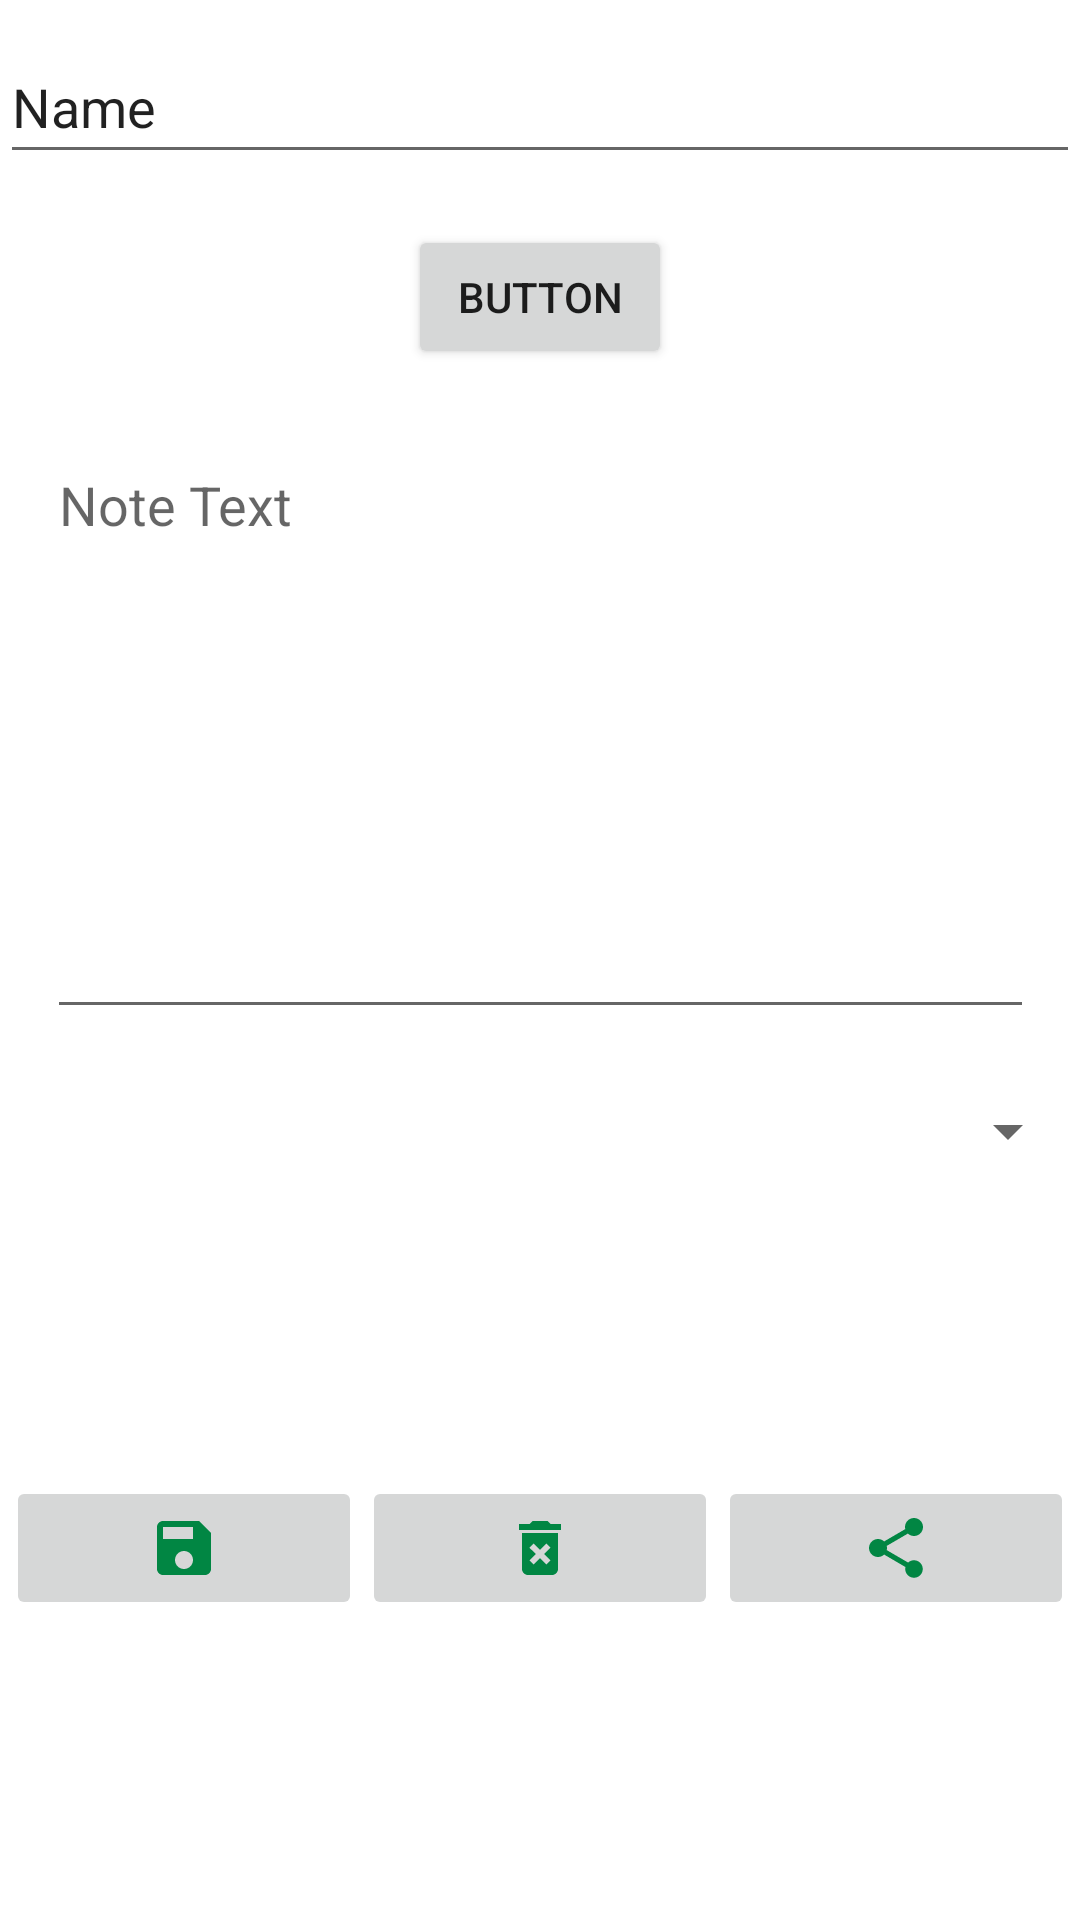

Screen size 1080×1920. Icon name, then its center in pixels as (x=x, y=y):
Delete: (x=540, y=1548)
Save and Exit: (x=184, y=1548)
share: (x=896, y=1548)
